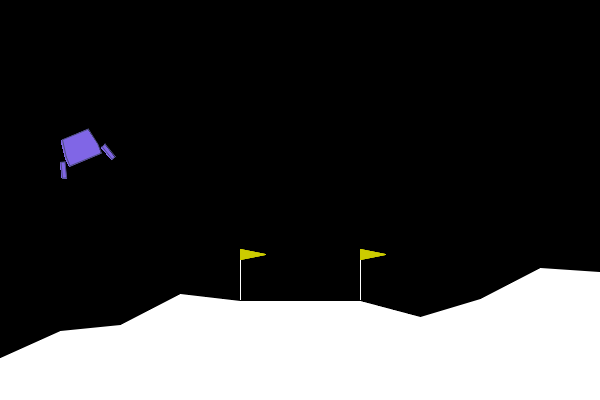lander: (46, 122, 117, 181)
